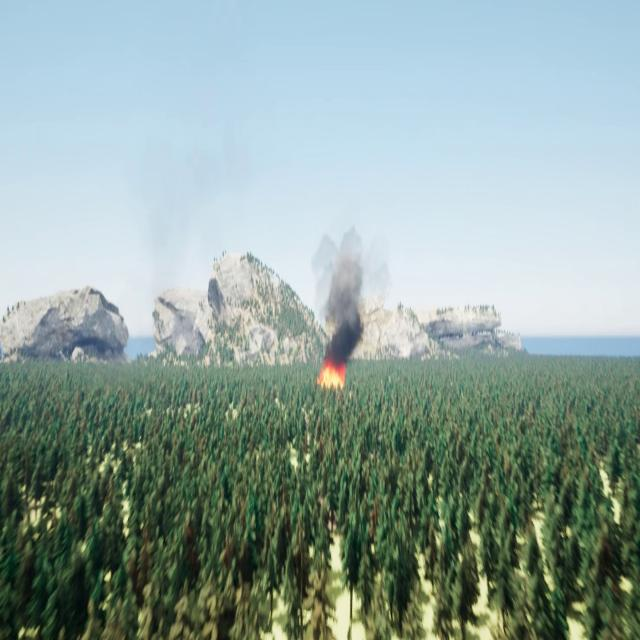fire: (314, 358, 348, 386)
smoke: (312, 218, 391, 357)
